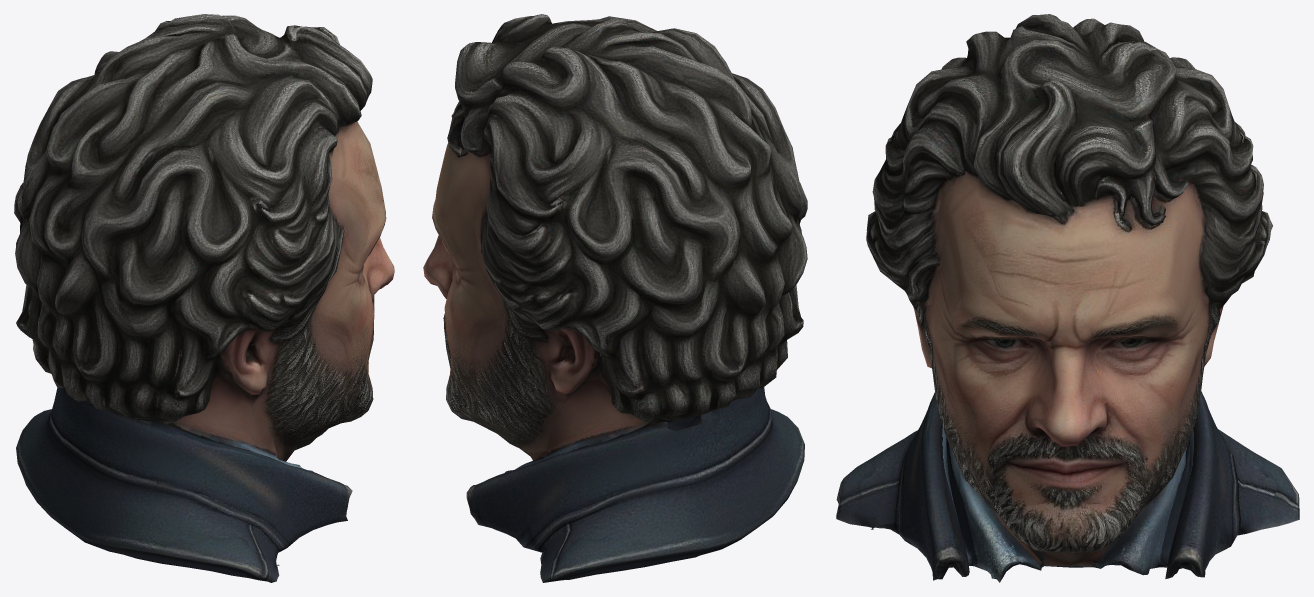
The model's file is 3dai-head.fbx.
3 views of the same model, side by side, from view 1: azimuth 30°, elevation 25°; view 2: azimuth 150°, elevation 25°; view 3: azimuth 270°, elevation 25° (orthographic). The views are drawn at different scales.
Visible parts, largest first — view 1: tripo_node_9c67f92f; view 2: tripo_node_9c67f92f; view 3: tripo_node_9c67f92f.
Part boxes in pixels (x1=…): tripo_node_9c67f92f: x1=14, y1=14, x2=394, y2=582; tripo_node_9c67f92f: x1=423, y1=14, x2=807, y2=582; tripo_node_9c67f92f: x1=836, y1=14, x2=1299, y2=582.
Bounding box in the file's own units: 0.8022 × 0.9954 × 0.8251.
Materials: 1 (1 with a texture image).
